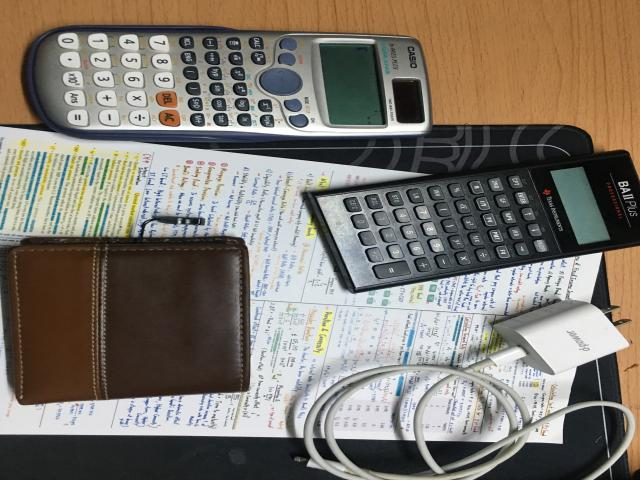Wallet: (8, 236, 250, 405)
wire: (305, 300, 627, 480)
